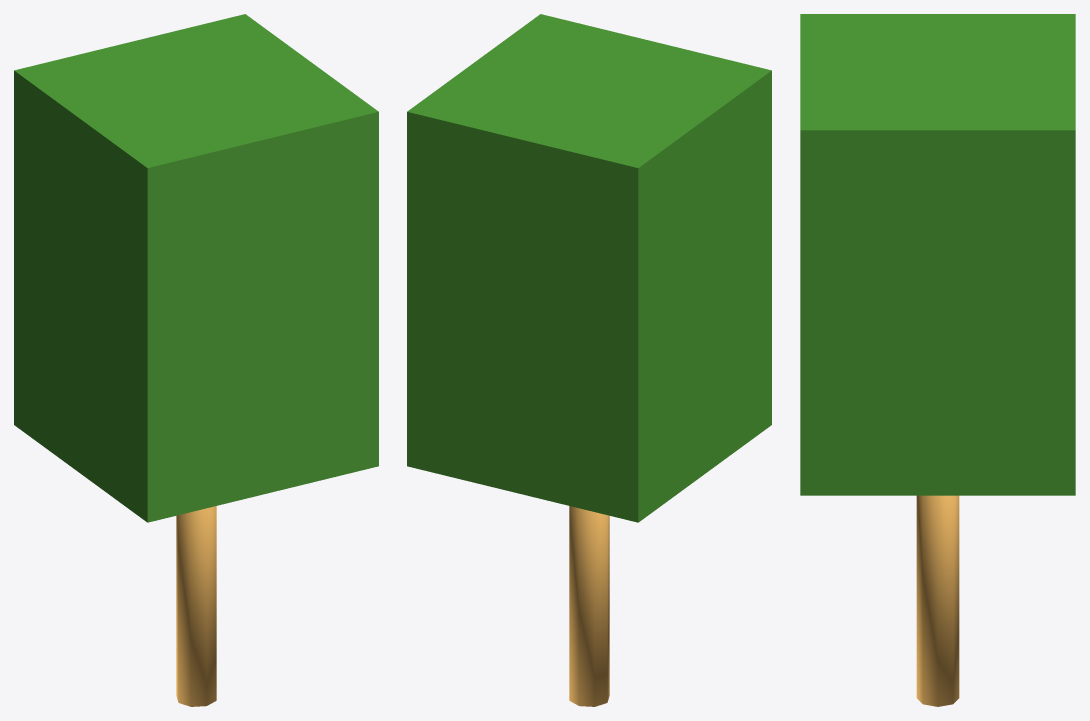
File: Prop_Tree_06.fbx
The picture shows the model from 3 angles, left to right: view 1: azimuth 30°, elevation 25°; view 2: azimuth 150°, elevation 25°; view 3: azimuth 270°, elevation 25°; orthographic projection. The views are drawn at different scales.
Visible parts, largest first — view 1: Prop_Tree_06; view 2: Prop_Tree_06; view 3: Prop_Tree_06.
Boxes of the visible parts, <box> form: Prop_Tree_06: <box>14,14,378,706</box>; Prop_Tree_06: <box>407,14,771,706</box>; Prop_Tree_06: <box>800,14,1075,706</box>.
Bounding box in the file's own units: 200 × 502 × 200.
